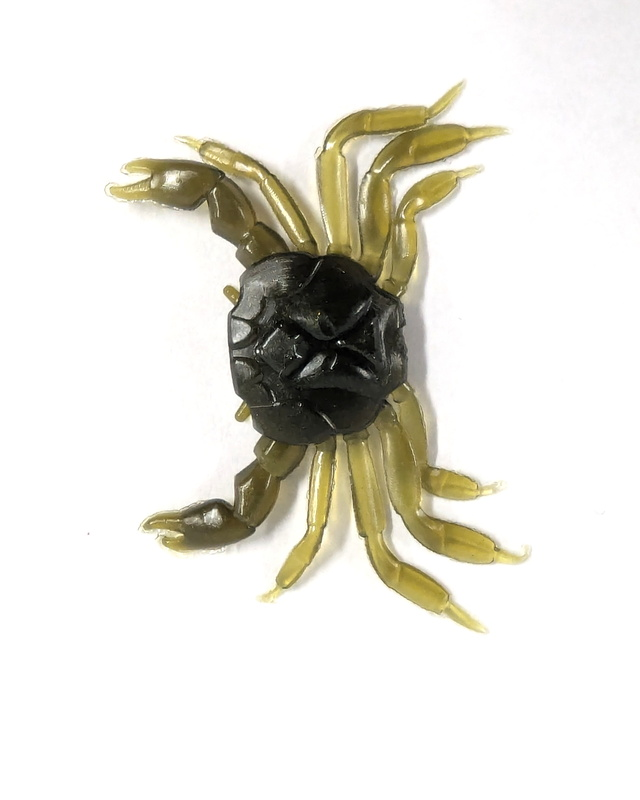crab2: (101, 77, 540, 636)
